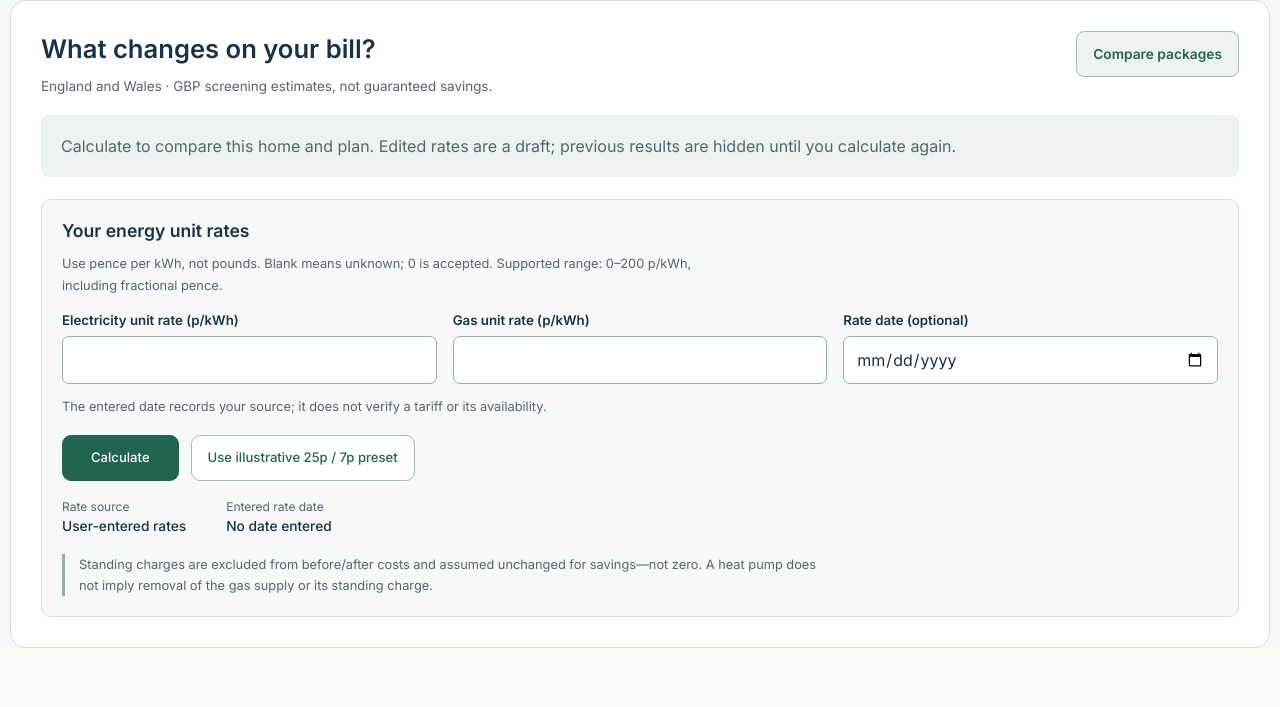
Test: Dashboard money and shared Costs & packages › retains zero without treating unknowns as zero
In the field labelled "Electricity unit rate (p/kWh)": (249, 360) x1=62 y1=336 x2=437 y2=384, type "0"
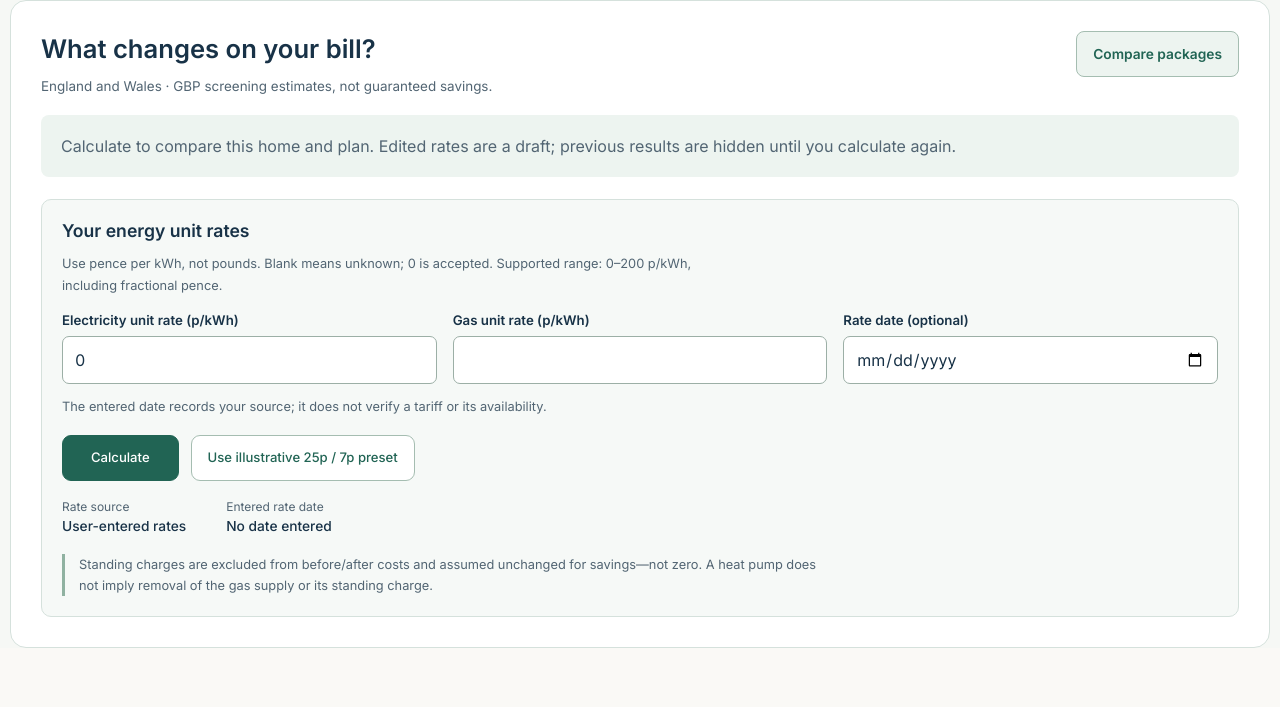
In the field labelled "Gas unit rate (p/kWh)": (640, 360) x1=453 y1=336 x2=827 y2=384, type "0"
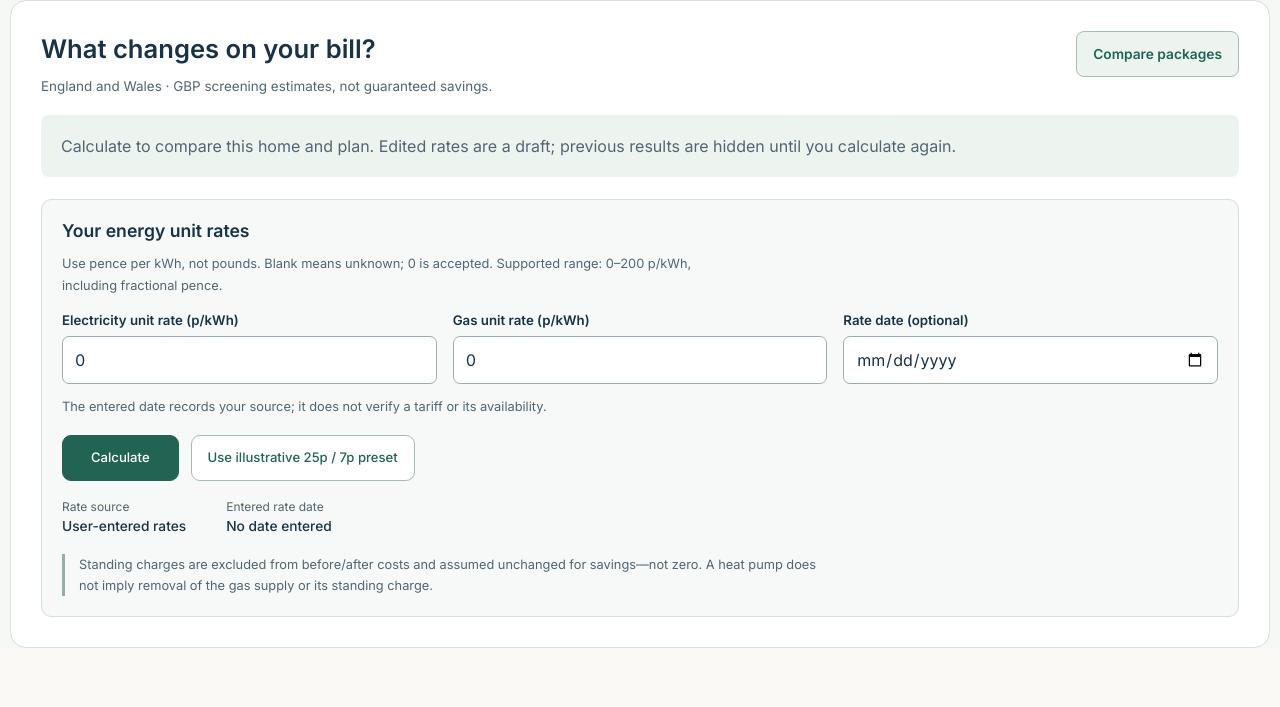
Click the button "Calculate": (120, 458) x1=62 y1=435 x2=179 y2=481
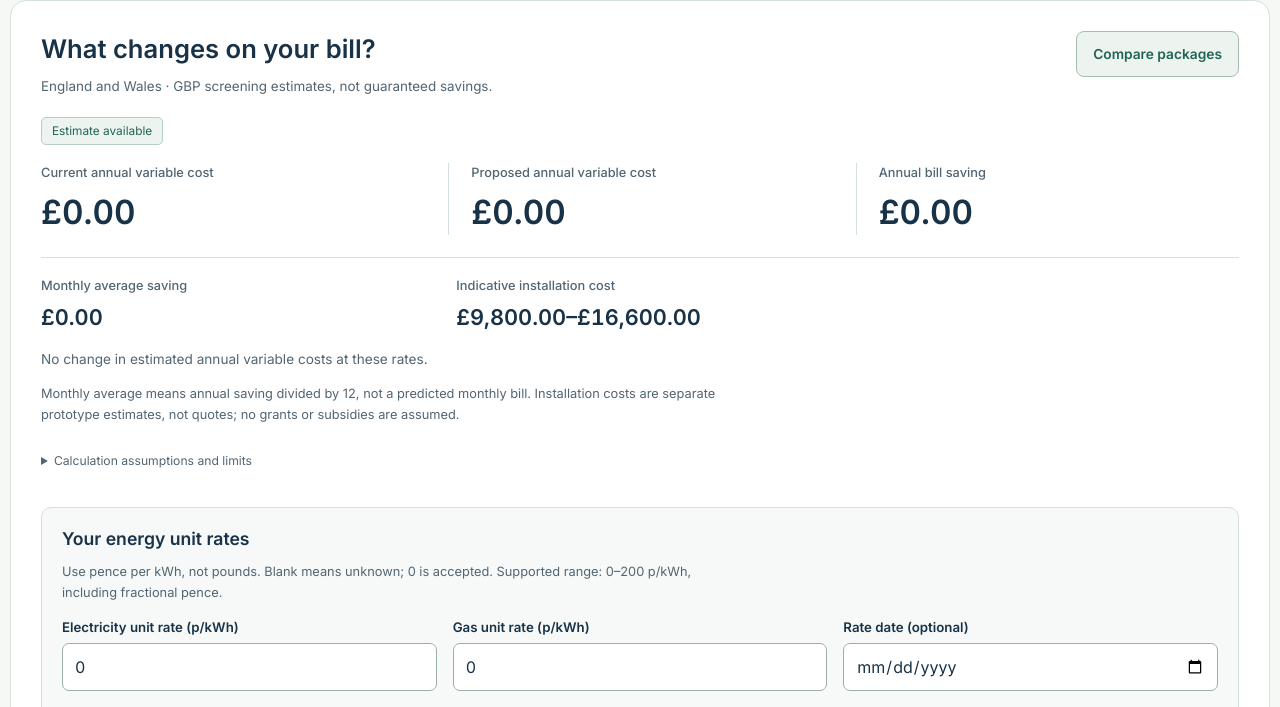
Check: the text "£0.00" below "Annual bill saving" is shown, box x1=879 y1=192 x2=973 y2=232
Check: the text "No change in estimated annual variable costs at these rates." is shown, box x1=41 y1=351 x2=428 y2=367
